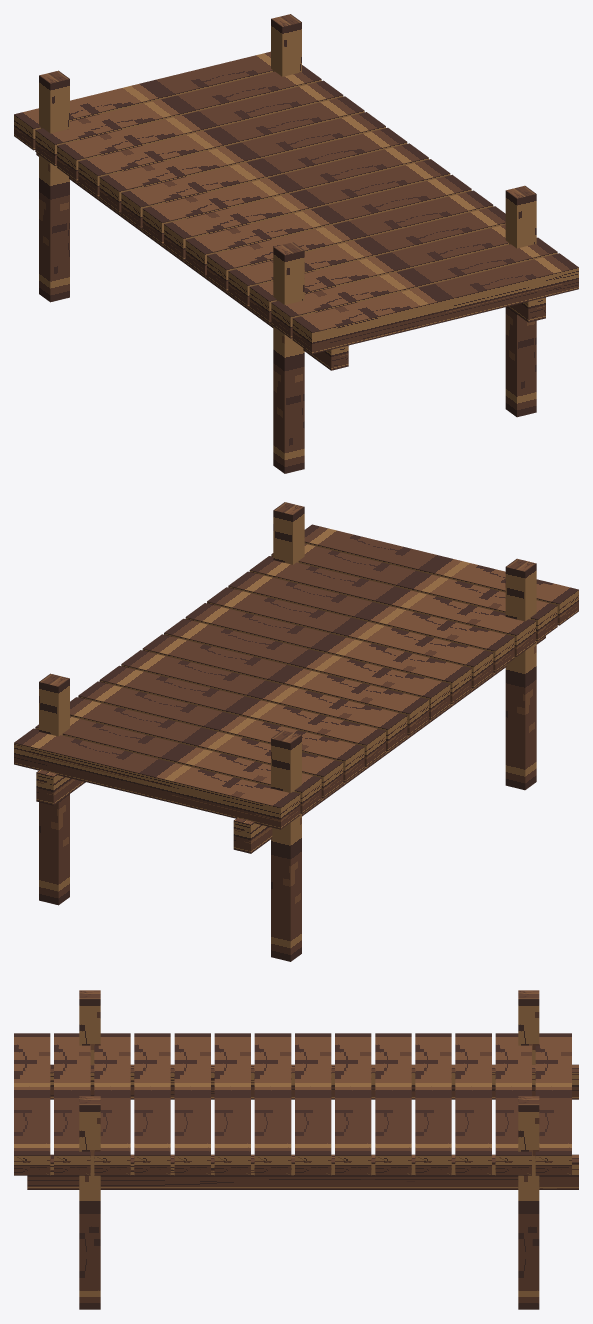
Rendered from dock.glb.
3 views of the same model, one above another, from view 1: azimuth 30°, elevation 25°; view 2: azimuth 150°, elevation 25°; view 3: azimuth 270°, elevation 25° (orthographic). The views are drawn at different scales.
Parts seen in each view (by area): view 1: dock_wood; view 2: dock_wood; view 3: dock_wood.
Boxes of the visible parts, box(x1,y1,x2,y2) form: dock_wood: box(14, 14, 578, 473); dock_wood: box(14, 502, 578, 961); dock_wood: box(14, 990, 578, 1309).
Size of the model in its own units: 2.3 by 1.8 by 4.5.
Materials: 1 (1 with a texture image).
